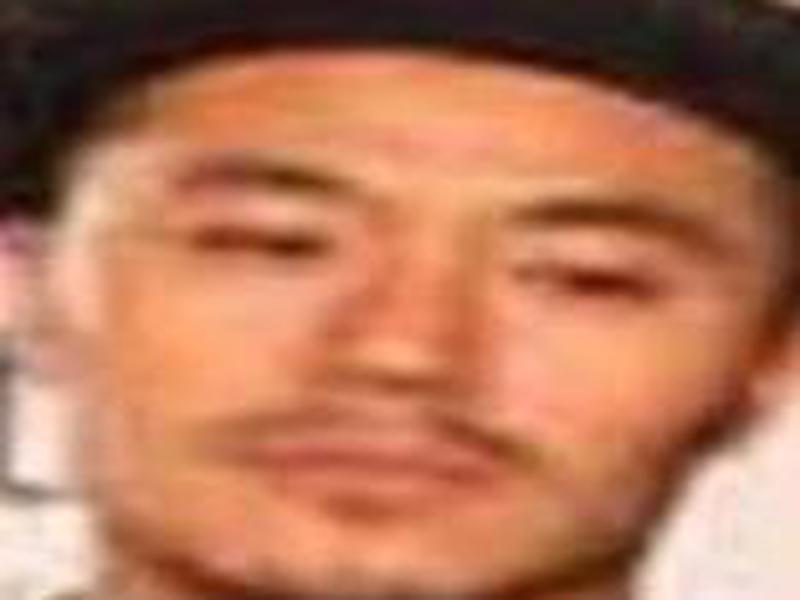without_mask: (63, 93, 770, 591)
